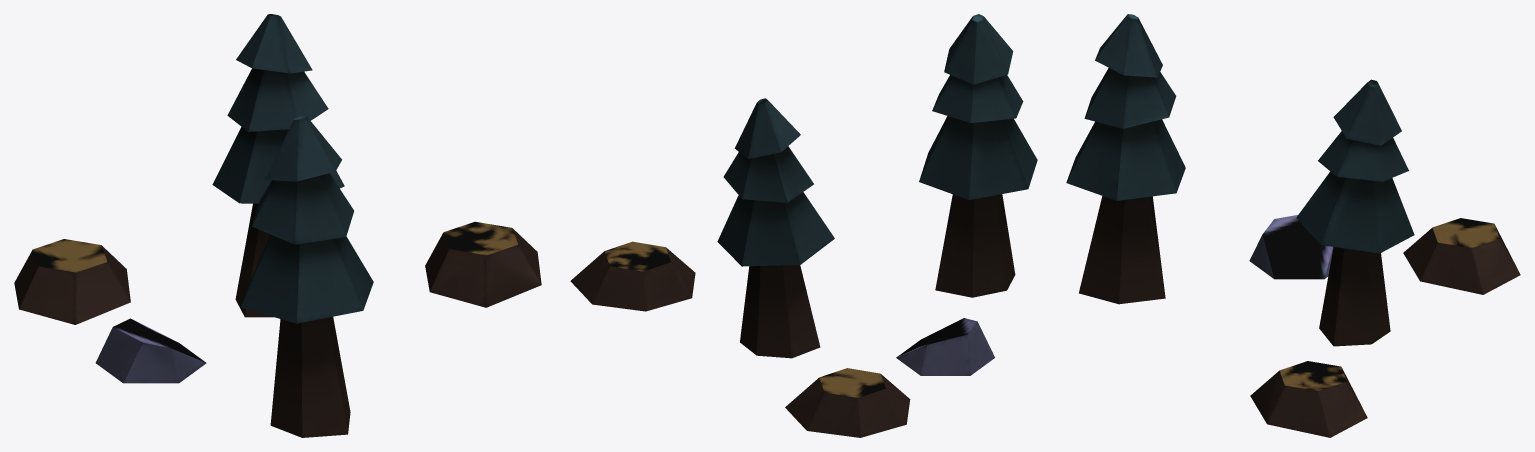
The model's file is tile_wood_5_lod2.fbx.
3 renders of one model, left to right at view 1: azimuth 30°, elevation 25°; view 2: azimuth 150°, elevation 25°; view 3: azimuth 270°, elevation 25°, orthographic. The views are drawn at different scales.
Visible parts, largest first — view 1: wood_5_lod2; view 2: wood_5_lod2; view 3: wood_5_lod2.
Part boxes in pixels (x1,y1,x2,y2): wood_5_lod2: (14, 14, 541, 437); wood_5_lod2: (570, 14, 1037, 437); wood_5_lod2: (1066, 14, 1520, 437).
Size of the model in its own units: 0.049 by 0.0315 by 0.0479.
